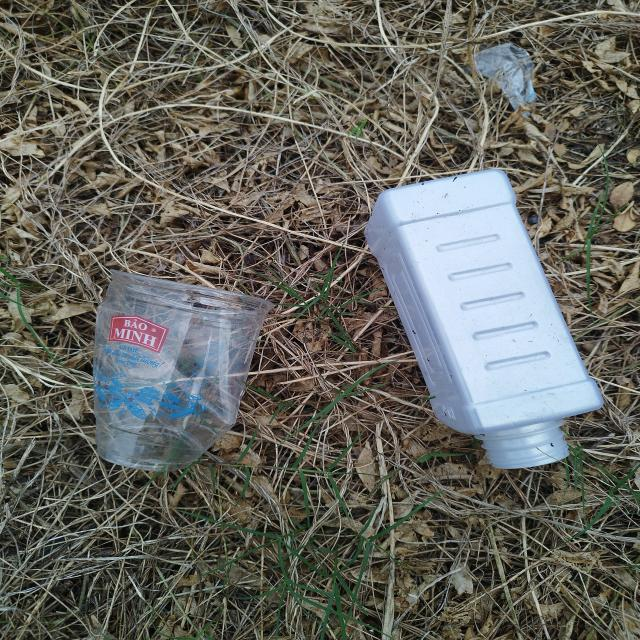bottle: (365, 170, 605, 472)
plastic glass: (93, 267, 272, 471)
